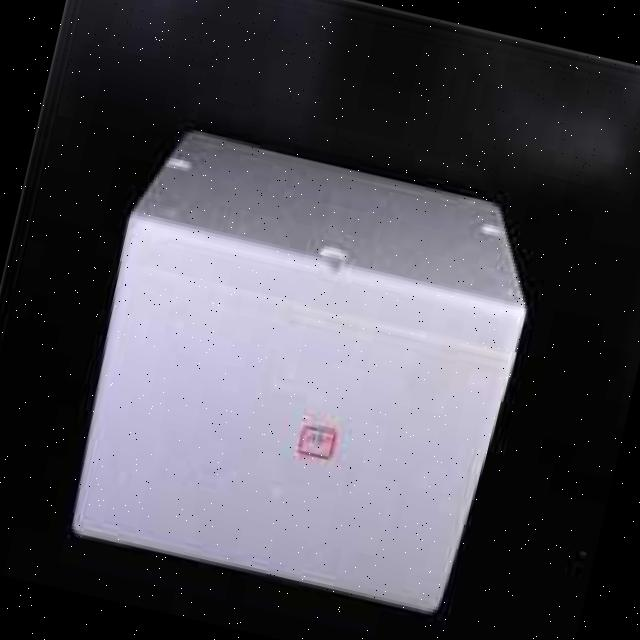styrofoam: (52, 112, 550, 624)
